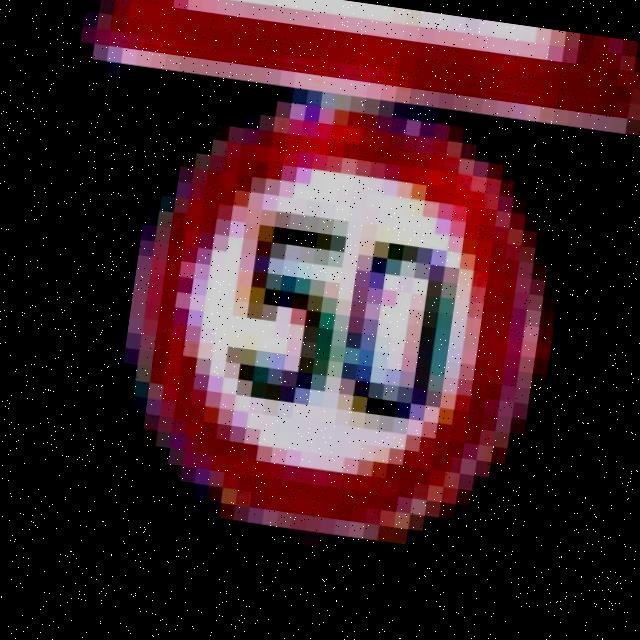Ograniczenie predkosci do 50: (107, 85, 562, 561)
